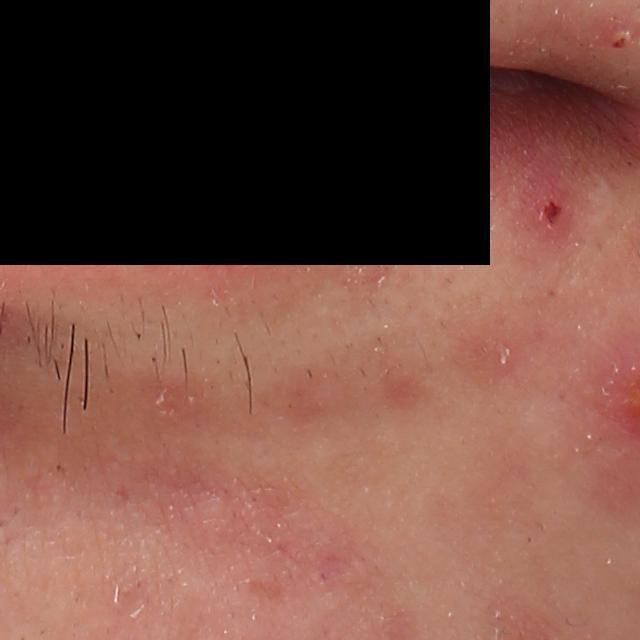papule: (521, 178, 575, 242)
